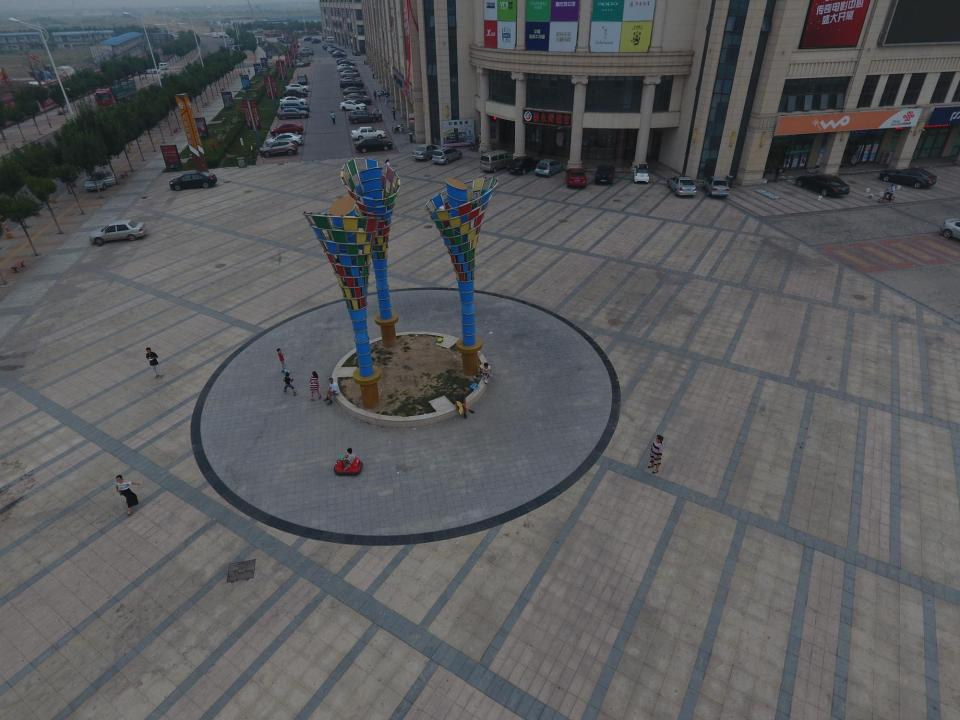car: (89, 219, 147, 245), (795, 173, 851, 197), (879, 166, 937, 189), (170, 171, 218, 190), (260, 139, 298, 157), (666, 176, 698, 197), (85, 170, 117, 190), (702, 176, 731, 198), (506, 156, 541, 174), (354, 137, 393, 152), (350, 126, 386, 141), (412, 143, 442, 161), (432, 147, 462, 165), (535, 159, 563, 177), (270, 122, 304, 136), (264, 133, 302, 145), (565, 167, 586, 188), (594, 165, 616, 185), (348, 109, 379, 123), (276, 108, 308, 120), (632, 164, 650, 183), (340, 100, 368, 111), (279, 96, 309, 106), (281, 102, 310, 112), (281, 88, 308, 98), (344, 95, 372, 104), (342, 86, 366, 96), (284, 84, 310, 92), (340, 80, 364, 88), (343, 94, 369, 101), (340, 70, 360, 78), (142, 67, 161, 74), (340, 77, 362, 83), (296, 74, 309, 84), (296, 60, 311, 68), (337, 64, 356, 70), (339, 68, 358, 74), (338, 62, 356, 68), (338, 60, 355, 65), (332, 52, 346, 58), (336, 59, 354, 63), (352, 49, 361, 56), (333, 51, 347, 55)
truck: (96, 78, 138, 110), (29, 68, 51, 80)
van: (480, 150, 514, 173), (154, 62, 170, 70), (325, 36, 335, 42)
